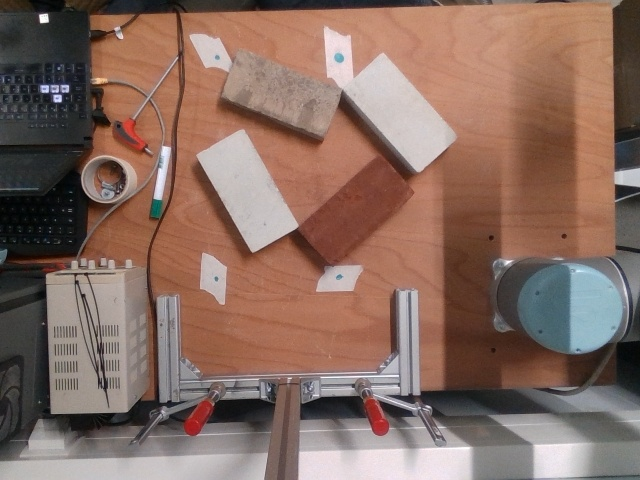brick: (345, 55, 455, 170), (301, 159, 411, 261), (199, 133, 293, 249), (225, 51, 340, 133)
